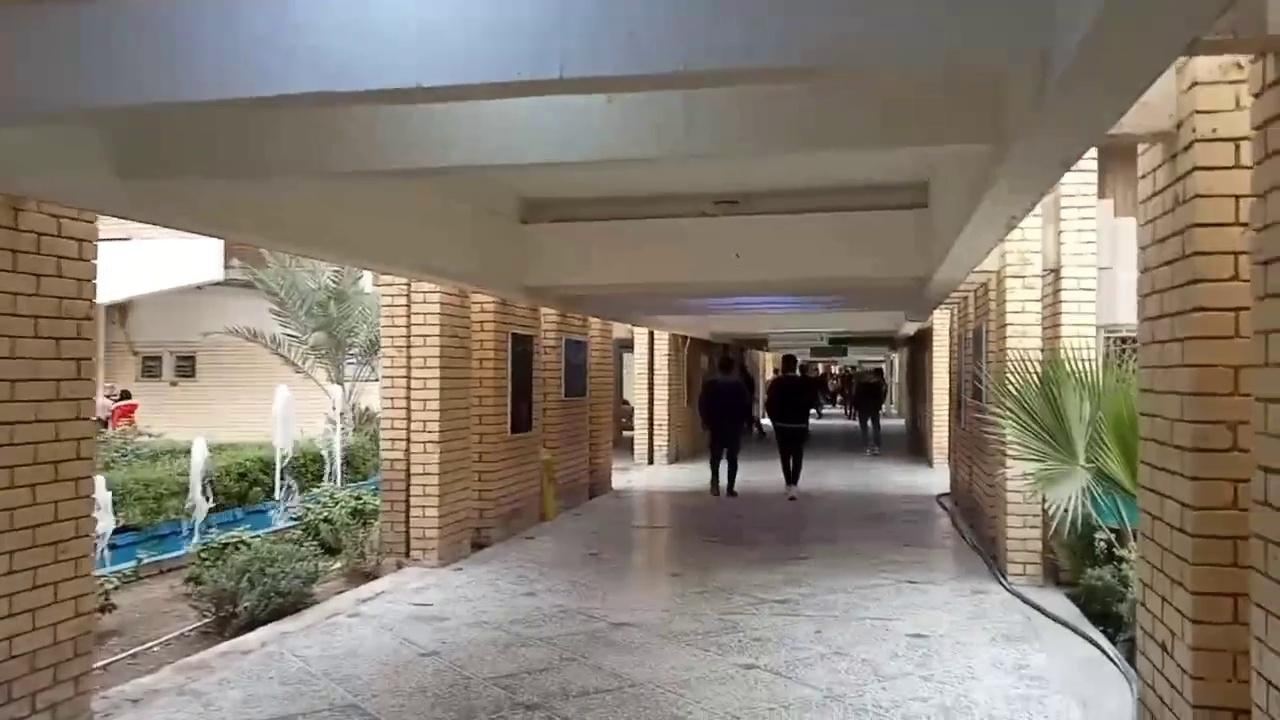car: (620, 398, 633, 431)
fountain: (88, 246, 385, 664), (90, 380, 379, 580), (266, 381, 298, 521), (181, 435, 218, 543), (90, 473, 117, 556)
person: (764, 353, 823, 500), (697, 354, 753, 496), (851, 366, 887, 455), (108, 388, 139, 431), (93, 382, 119, 428)
tree: (969, 339, 1139, 649), (198, 247, 382, 488), (182, 482, 381, 634)
